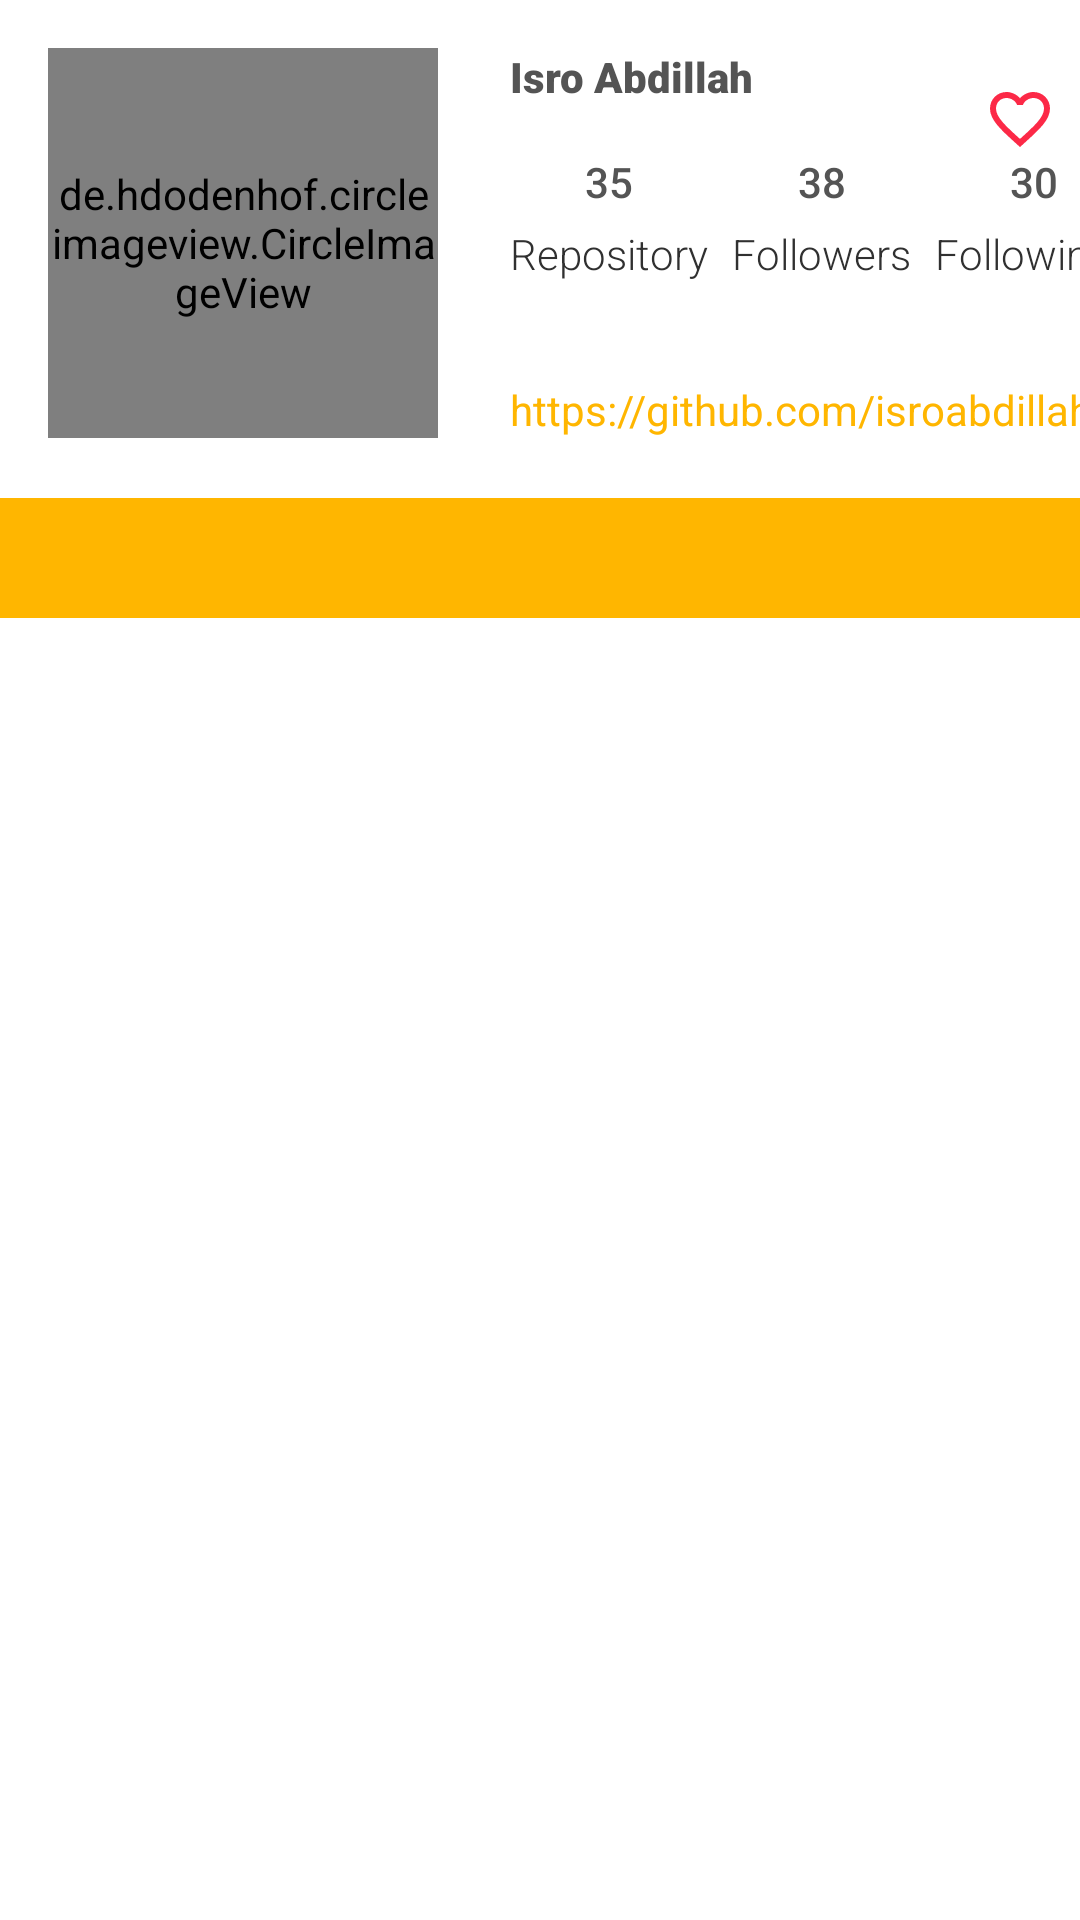

Icon bounding boxes for this 1080 x 1920 phone screenshot, format region(x1, y1, x2, y2):
This is a favorite icon: region(990, 92, 1050, 147)
